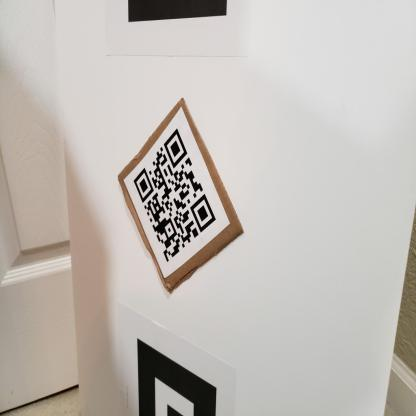qr: (127, 126, 231, 267)
